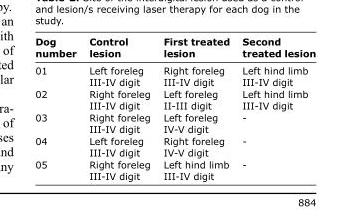table: (34, 35, 315, 181)
table column: (235, 35, 315, 181), (156, 35, 235, 181), (82, 35, 156, 181), (34, 35, 82, 181)
table column header: (34, 35, 315, 60)
table row: (34, 60, 315, 87), (34, 35, 315, 60), (34, 110, 315, 134), (34, 157, 315, 181), (34, 87, 315, 110), (34, 134, 315, 157)
